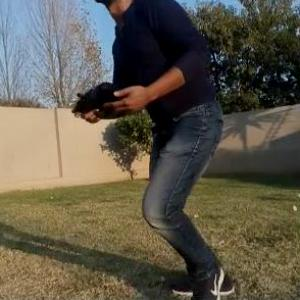follow: (61, 0, 244, 299)
